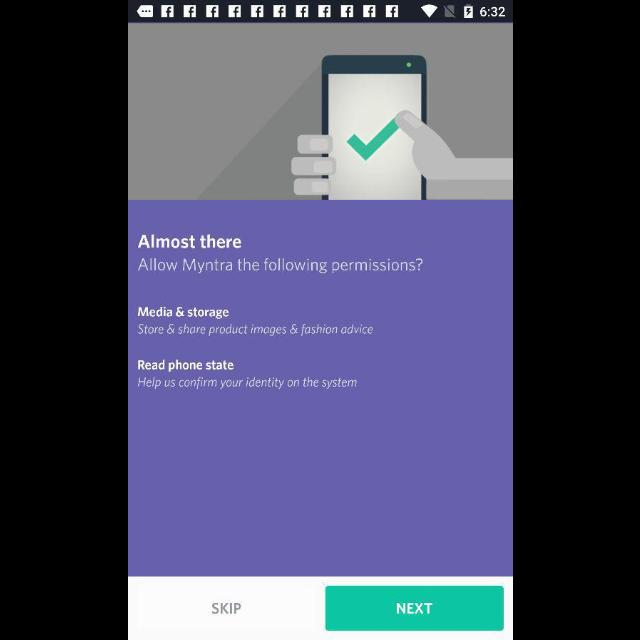image: (128, 24, 512, 200)
text: (138, 258, 422, 274), (136, 323, 372, 337), (137, 377, 357, 391), (137, 234, 241, 250), (136, 359, 234, 373), (137, 306, 229, 320), (212, 602, 240, 614)
textbutton: (325, 586, 503, 630)
uppertaskbar: (128, 1, 512, 23)
